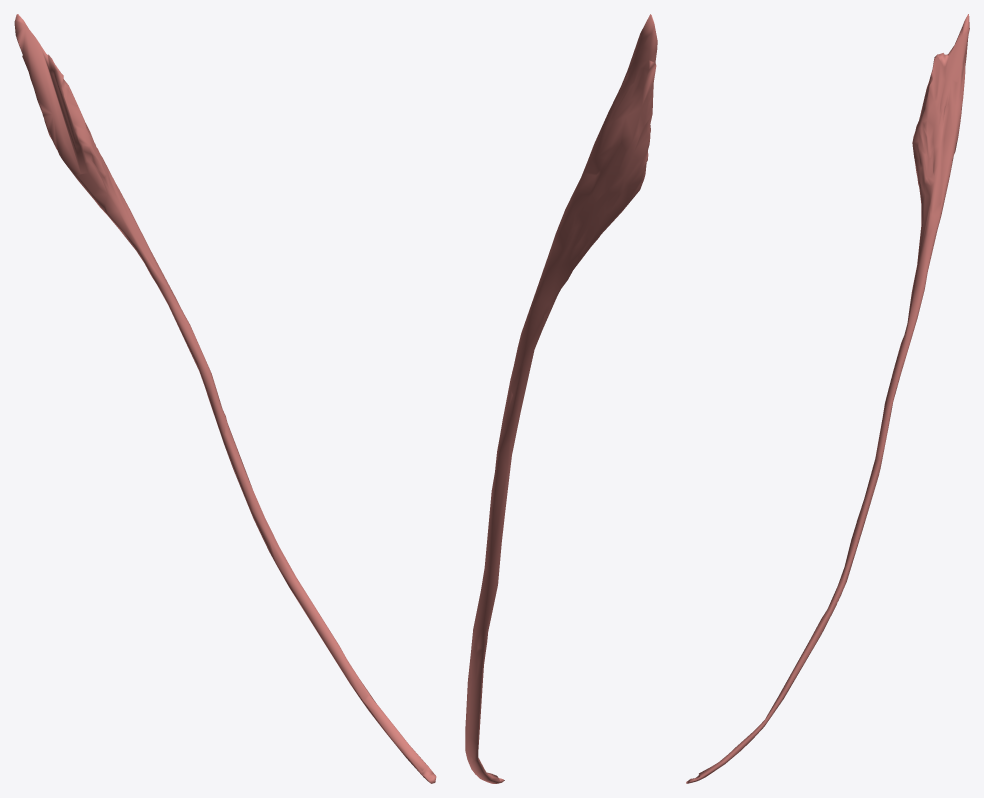
3 renders of one model, left to right at view 1: azimuth 30°, elevation 25°; view 2: azimuth 150°, elevation 25°; view 3: azimuth 270°, elevation 25°, orthographic. The views are drawn at different scales.
Parts seen in each view (by area): view 1: ZA_08d2efe52d1965f2; view 2: ZA_08d2efe52d1965f2; view 3: ZA_08d2efe52d1965f2.
Boxes of the visible parts, x1,y1,x2,y2 form: ZA_08d2efe52d1965f2: (14, 14, 436, 783); ZA_08d2efe52d1965f2: (465, 14, 657, 783); ZA_08d2efe52d1965f2: (686, 14, 969, 783).
Bounding box in the file's own units: 0.0807 × 0.206 × 0.0811.
